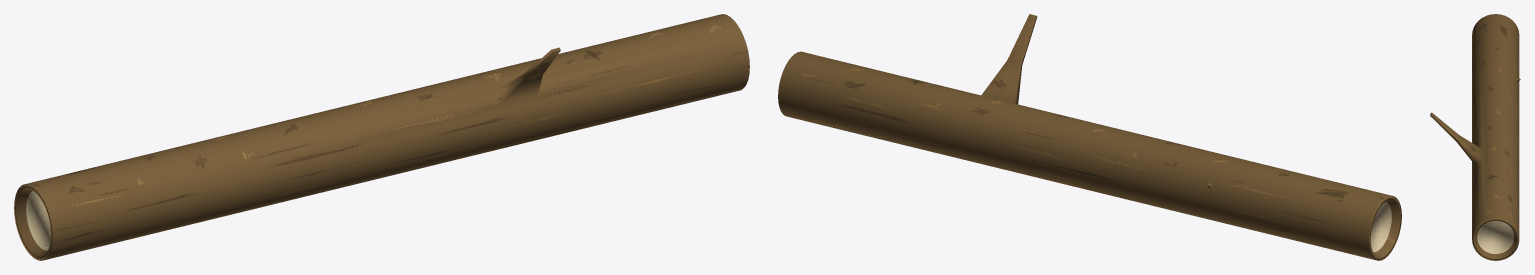
File: Brindille.fbx
The picture shows the model from 3 angles, left to right: view 1: azimuth 30°, elevation 25°; view 2: azimuth 150°, elevation 25°; view 3: azimuth 270°, elevation 25°; orthographic projection. The views are drawn at different scales.
Visible parts, largest first — view 1: BRINDILLE 2; view 2: BRINDILLE 2; view 3: BRINDILLE 2.
Boxes of the visible parts, x1,y1,x2,y2 form: BRINDILLE 2: (14, 14, 749, 260); BRINDILLE 2: (778, 14, 1401, 260); BRINDILLE 2: (1430, 14, 1520, 260).
Size of the model in its own units: 35.79 by 6.59 by 6.68.
2 materials, 2 textured.
